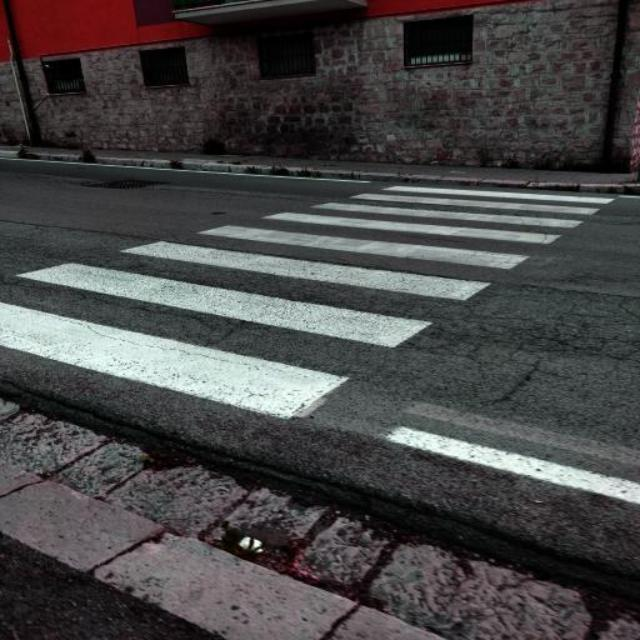sidewalk: (0, 179, 620, 425)
